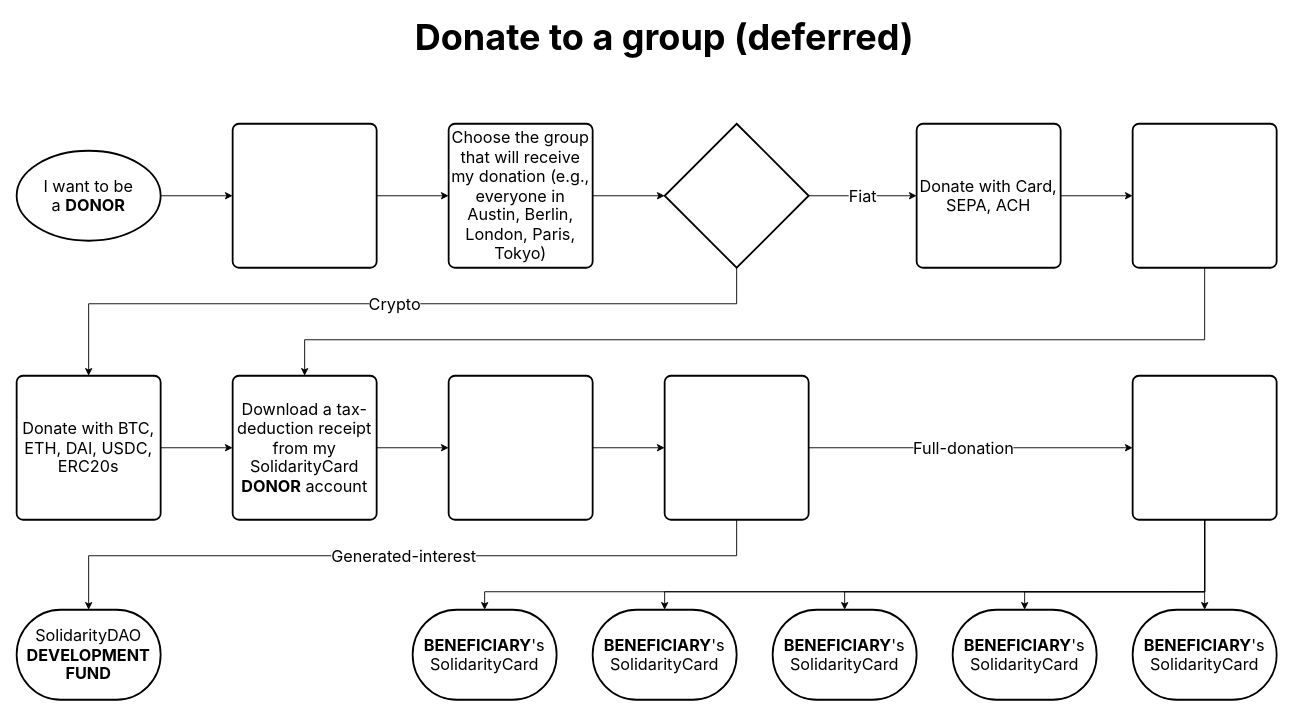
The diagram is 1292 pixels wide and 716 high, and some of its shapes have lost their labels. Each missing label, with the centre of its shape:
Crypto --> Fiat offramp: the point at 1204,447
Crypto or Fiat ?: the point at 736,195
Donation goes into an interest-generating smart contract: the point at 520,447
Fiat --> Crypto onramp: the point at 1204,195
Signup with my email and phone: the point at 304,195
We wait a couple of weeks to generate some earnings through DeFi loans: the point at 736,447
